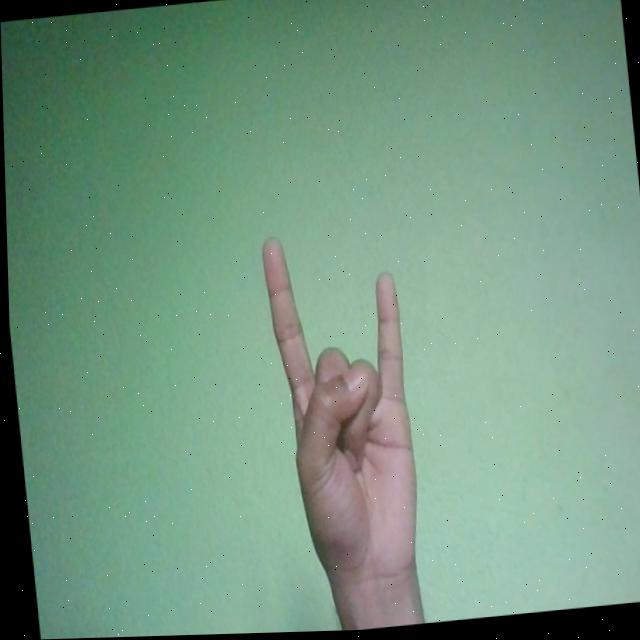Rock On: (259, 227, 424, 603)
